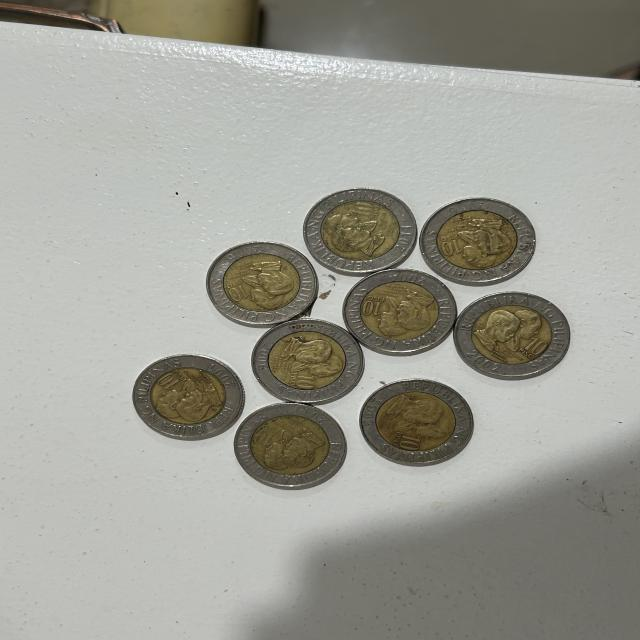10_Old_Front: (252, 424, 322, 469), (285, 364, 322, 394), (356, 287, 386, 323), (388, 434, 423, 457), (516, 337, 552, 359), (439, 232, 467, 260), (154, 373, 188, 393), (224, 280, 252, 304), (348, 200, 376, 219)
